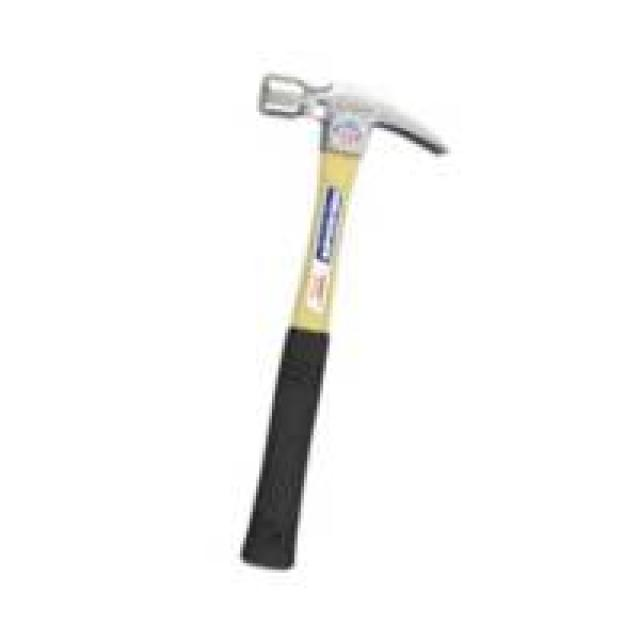hammer: (226, 33, 460, 596)
